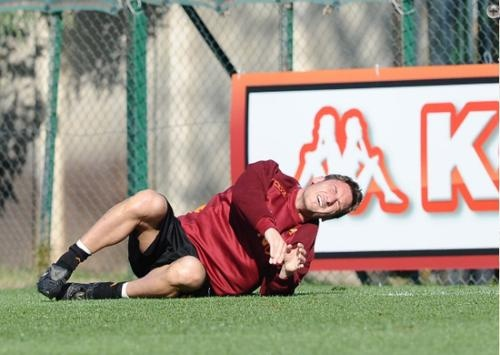falling: (32, 151, 367, 304)
